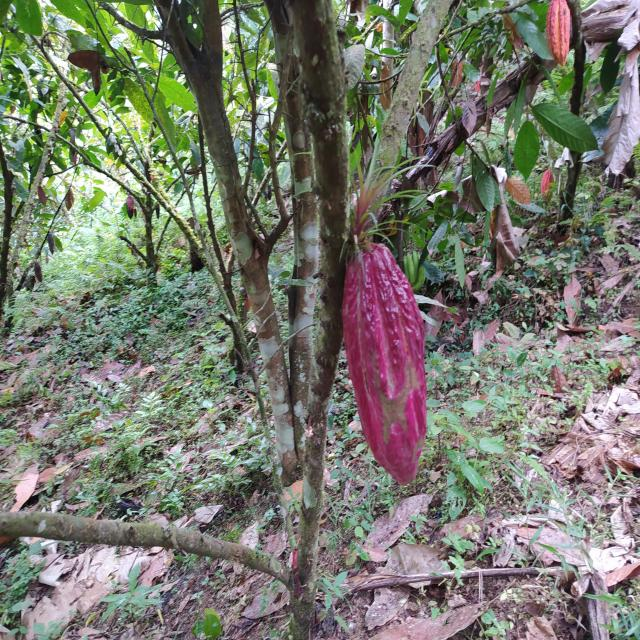Sana: (342, 242, 426, 486), (546, 0, 572, 67)
